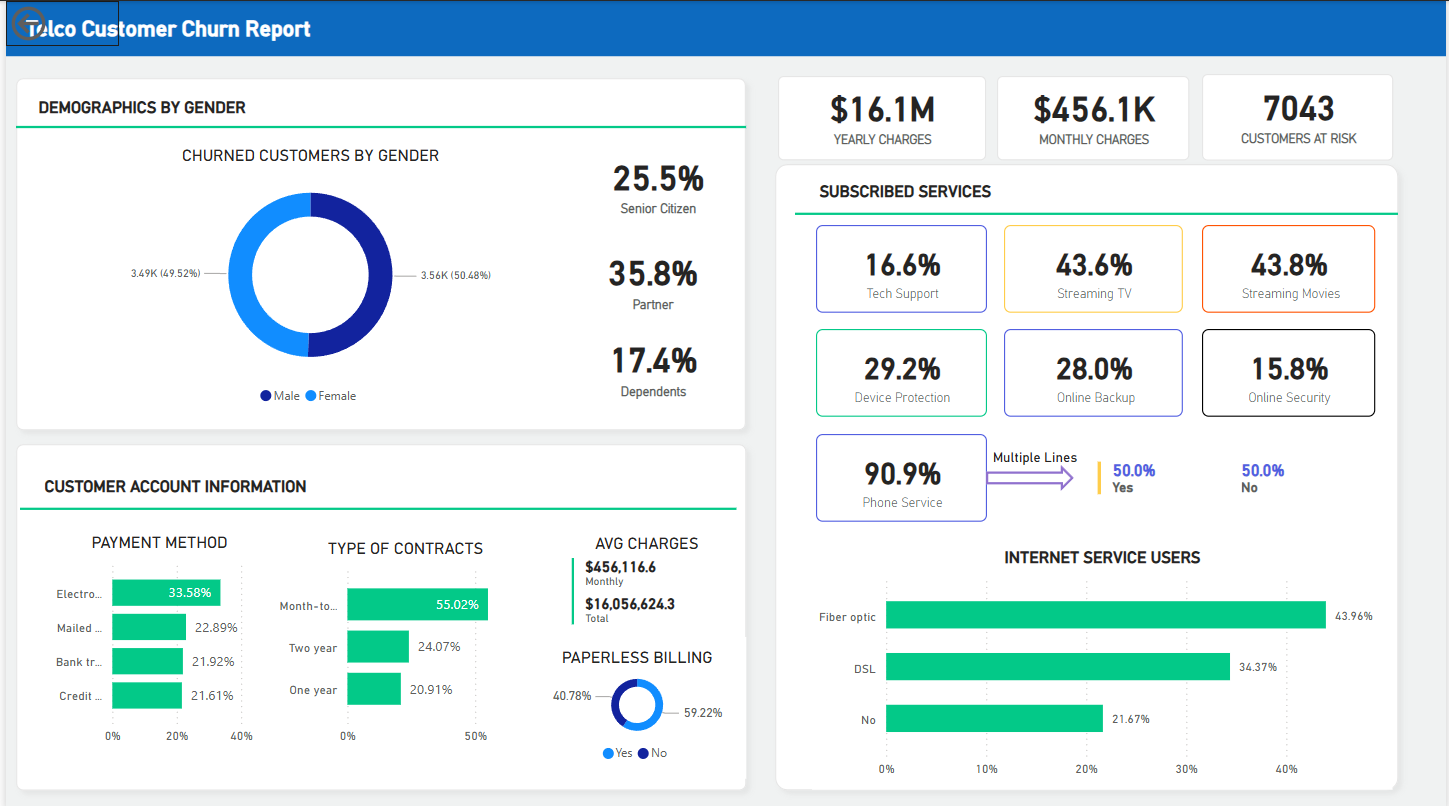

Layout of this report page (visuals, bound fields, positions):
{"tool":"powerbi","page":{"name":"Churn Dashboard","canvas":[1280,720],"ordinal":0},"visuals":[{"type":"shape","box":[0,0,1280,49],"z":0},{"type":"shape","box":[0,59.6,666.9,331.1],"z":0,"group":"g1"},{"type":"card","fields":{"Values":["Telco-Customer-Churn - Cleaned.% Tech_Support"]},"box":[720,199,152.4,78.4],"z":0,"group":"g4"},{"type":"donutChart","title":"CHURNED CUSTOMERS BY GENDER","fields":{"Y":["CountNonNull(Telco-Customer-Churn - Cleaned.gender)"],"Category":["Telco-Customer-Churn - Cleaned.gender"]},"box":[19.6,117.9,500.4,254.2],"z":1000,"group":"g1"},{"type":"shape","box":[674.7,136,572.4,575.1],"z":1000},{"type":"card","fields":{"Values":["Telco-Customer-Churn - Cleaned.% Streaming_TV"]},"box":[887.4,199,159.5,78.4],"z":1000,"group":"g4"},{"type":"shape","box":[701.3,122.7,536,133],"z":1500,"group":"g3"},{"type":"shape","box":[12.4,384.9,636.8,133],"z":1500,"group":"g2"},{"type":"textbox","box":[12,8,438,33],"z":2000},{"type":"textbox","box":[8.8,70.1,639.5,49.6],"z":2000,"group":"g1"},{"type":"textbox","box":[703.1,144.7,522.6,38],"z":2000,"group":"g3"},{"type":"card","fields":{"Values":["Telco-Customer-Churn - Cleaned.% Streaming_Movies"]},"box":[1062.8,199,154.2,78.4],"z":2000,"group":"g4"},{"type":"textbox","box":[14.6,406.9,636.8,38],"z":2000,"group":"g2"},{"type":"card","fields":{"Values":["Telco-Customer-Churn - Cleaned.Senior_Citizen"]},"box":[520,125.9,120,80.9],"z":3000,"group":"g1"},{"type":"card","fields":{"Values":["Telco-Customer-Churn - Cleaned.% Device_Protection"]},"box":[720,291.6,152.4,78.4],"z":3000,"group":"g4"},{"type":"shape","box":[0,384.9,667.6,326.2],"z":3000},{"type":"card","fields":{"Values":["CountNonNull(Telco-Customer-Churn - Cleaned.customerID)"]},"box":[1062.7,65.2,170.2,76.9],"z":4000},{"type":"card","fields":{"Values":["Telco-Customer-Churn - Cleaned.% partner"]},"box":[512.1,212.6,127.1,78.2],"z":4000,"group":"g1"},{"type":"card","fields":{"Values":["Telco-Customer-Churn - Cleaned.% Online_Backup"]},"box":[887.4,291.6,159.5,78.4],"z":4000,"group":"g4"},{"type":"shape","box":[8.9,67.1,648.9,90.7],"z":5000,"group":"g1"},{"type":"card","fields":{"Values":["Telco-Customer-Churn - Cleaned.% Online_Security"]},"box":[1062.8,291.6,154.2,78.4],"z":5000,"group":"g4"},{"type":"card","fields":{"Values":["Telco-Customer-Churn - Cleaned.% Phone_Service"]},"box":[720,385,152,78],"z":5000},{"type":"card","fields":{"Values":["Telco-Customer-Churn - Cleaned.% Dependents"]},"box":[512.1,287.3,127.1,83.6],"z":6000,"group":"g1"},{"type":"clusteredBarChart","title":"PAYMENT METHOD","fields":{"Y":["CountNonNull(Telco-Customer-Churn - Cleaned.PaymentMethod)"],"Category":["Telco-Customer-Churn - Cleaned.PaymentMethod"]},"box":[26.7,463.1,219.6,204.4],"z":7000},{"type":"card","fields":{"Values":["Sum(Telco-Customer-Churn - Cleaned.TotalCharges)"]},"box":[686.2,67,184.7,75.1],"z":8000},{"type":"group","id":"g1","title":"Group 1","box":[0,59.6,666.9,331.1],"z":10000},{"type":"card","fields":{"Values":["Sum(Telco.MonthlyCharges)"]},"box":[880.8,67,171.1,75.1],"z":11000},{"type":"donutChart","title":"PAPERLESS BILLING","fields":{"Category":["Telco-Customer-Churn - Cleaned.PaperlessBilling"],"Y":["CountNonNull(Telco-Customer-Churn - Cleaned.PaperlessBilling)"]},"box":[464,565.3,193.8,126.2],"z":12000},{"type":"multiRowCard","title":"AVG CHARGES","fields":{"Values":["Sum(Telco-Customer-Churn - Cleaned.MonthlyCharges)","Sum(Telco-Customer-Churn - Cleaned.TotalCharges)"]},"box":[496.9,463.1,143.1,95.1],"z":13000},{"type":"clusteredBarChart","title":"TYPE OF CONTRACTS","fields":{"Category":["Telco-Customer-Churn - Cleaned.Contract"],"Y":["CountNonNull(Telco-Customer-Churn - Cleaned.Contract)"]},"box":[226.7,463.1,256.9,204.4],"z":14000},{"type":"group","id":"g2","title":"Group 2","box":[12.4,384.9,639.1,132.4],"z":15000},{"type":"group","id":"g3","title":"Group 2","box":[701.3,122.7,536,133.3],"z":16000},{"type":"group","id":"g4","title":"Group 3","box":[720,199,497,171],"z":17000},{"type":"shape","box":[871,412,78,23],"z":18000},{"type":"textbox","box":[872,391,300,30],"z":19000},{"type":"multiRowCard","fields":{"Values":["Telco-Customer-Churn - Cleaned.% Yes-Multiple_Lines","Telco-Customer-Churn - Cleaned.% No-Multiple_Lines"]},"box":[965,404,252,53],"z":20000},{"type":"barChart","title":"INTERNET SERVICE USERS","fields":{"Y":["CountNonNull(Telco.InternetService)"],"Category":["Telco-Customer-Churn - Cleaned.InternetService"]},"box":[716.4,471.1,516.4,230.2],"z":21000},{"type":"actionButton","box":[0,0,100,40],"z":22000}]}

Visuals, with their boxes in screenshot pixels (x1, y1, x2, y2), scaled from the page's 1280x720 canvas onto the 1449x806 screenshot:
shape: left=0, top=0, right=1448, bottom=55
shape: left=0, top=67, right=755, bottom=437
card - Telco-Customer-Churn - Cleaned.% Tech_Support: left=815, top=223, right=988, bottom=311
"CHURNED CUSTOMERS BY GENDER" donutChart: left=22, top=132, right=589, bottom=417
shape: left=764, top=152, right=1412, bottom=796
card - Telco-Customer-Churn - Cleaned.% Streaming_TV: left=1005, top=223, right=1185, bottom=311
shape: left=794, top=137, right=1401, bottom=286
shape: left=14, top=431, right=735, bottom=580
textbox: left=14, top=9, right=509, bottom=46
textbox: left=10, top=78, right=734, bottom=134
textbox: left=796, top=162, right=1388, bottom=205
card - Telco-Customer-Churn - Cleaned.% Streaming_Movies: left=1203, top=223, right=1378, bottom=311
textbox: left=17, top=456, right=737, bottom=498
card - Telco-Customer-Churn - Cleaned.Senior_Citizen: left=589, top=141, right=724, bottom=232
card - Telco-Customer-Churn - Cleaned.% Device_Protection: left=815, top=326, right=988, bottom=414
shape: left=0, top=431, right=756, bottom=796
card - CountNonNull(Telco-Customer-Churn - Cleaned.customerID): left=1203, top=73, right=1396, bottom=159
card - Telco-Customer-Churn - Cleaned.% partner: left=580, top=238, right=724, bottom=326
card - Telco-Customer-Churn - Cleaned.% Online_Backup: left=1005, top=326, right=1185, bottom=414
shape: left=10, top=75, right=745, bottom=177
card - Telco-Customer-Churn - Cleaned.% Online_Security: left=1203, top=326, right=1378, bottom=414
card - Telco-Customer-Churn - Cleaned.% Phone_Service: left=815, top=431, right=987, bottom=518
card - Telco-Customer-Churn - Cleaned.% Dependents: left=580, top=322, right=724, bottom=415
"PAYMENT METHOD" clusteredBarChart: left=30, top=518, right=279, bottom=747
card - Sum(Telco-Customer-Churn - Cleaned.TotalCharges): left=777, top=75, right=986, bottom=159
"Group 1" group: left=0, top=67, right=755, bottom=437
card - Sum(Telco.MonthlyCharges): left=997, top=75, right=1191, bottom=159
"PAPERLESS BILLING" donutChart: left=525, top=633, right=745, bottom=774
"AVG CHARGES" multiRowCard: left=563, top=518, right=724, bottom=625
"TYPE OF CONTRACTS" clusteredBarChart: left=257, top=518, right=547, bottom=747
"Group 2" group: left=14, top=431, right=738, bottom=579
"Group 2" group: left=794, top=137, right=1401, bottom=287
"Group 3" group: left=815, top=223, right=1378, bottom=414
shape: left=986, top=461, right=1074, bottom=487
textbox: left=987, top=438, right=1327, bottom=471
multiRowCard - Telco-Customer-Churn - Cleaned.% Yes-Multiple_Lines x Telco-Customer-Churn - Cleaned.% No-Multiple_Lines: left=1092, top=452, right=1378, bottom=512
"INTERNET SERVICE USERS" barChart: left=811, top=527, right=1396, bottom=785
actionButton: left=0, top=0, right=113, bottom=45
